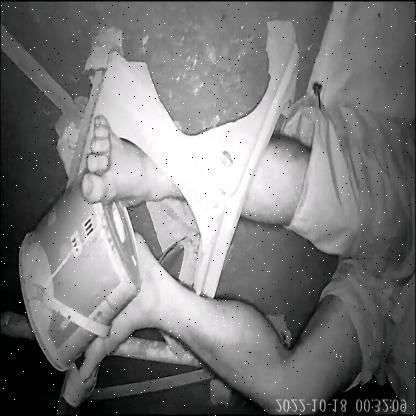leg: (72, 224, 343, 416), (69, 105, 187, 214)
